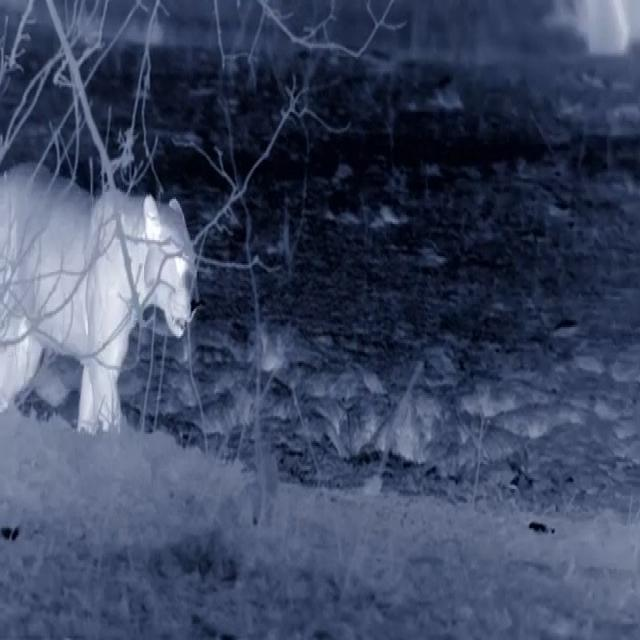animal: (0, 138, 225, 462)
